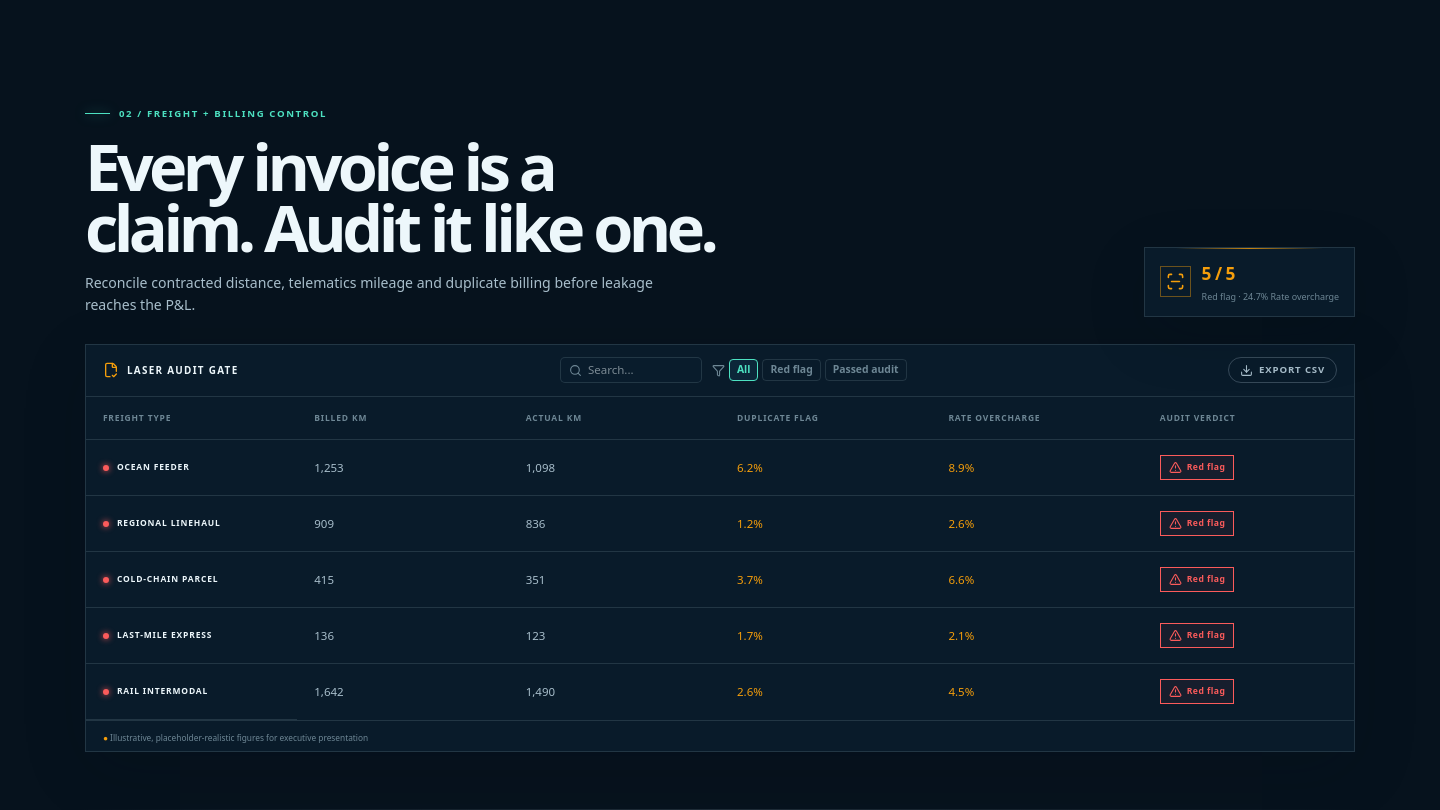
it: AuditSection › filters by text and verdict and exposes a localized empty state
Step 1. Type "not-a-freight-type" into the field labelled "Search..." → (640, 370), box x1=588 y1=362 x2=693 y2=379
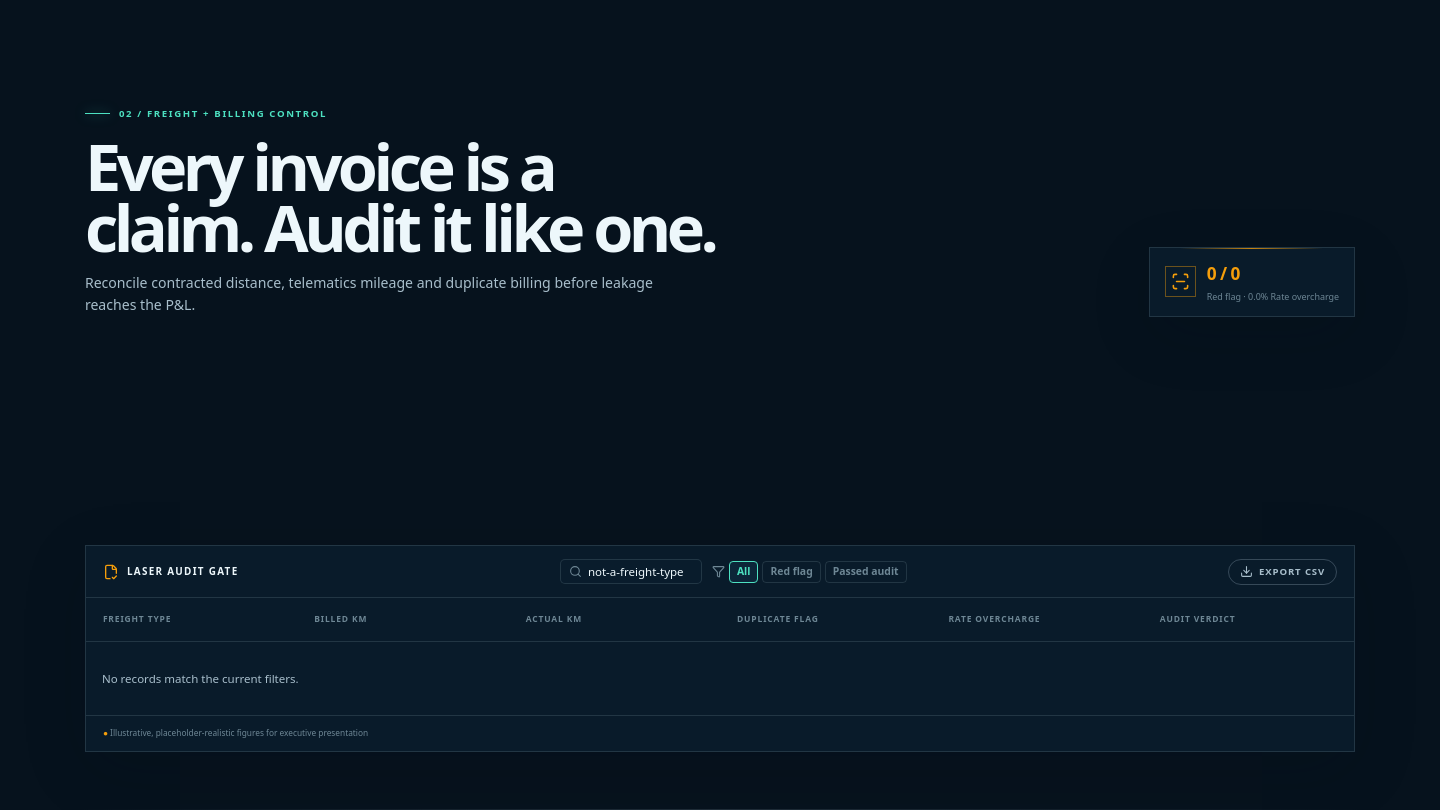
Expected: the text "No records match the current filters." is shown, x1=86 y1=642 x2=1354 y2=715
Expected: the number of rows is 2, x1=86 y1=598 x2=1354 y2=642; x1=86 y1=642 x2=1354 y2=715
Step 2. Clear the field named "Search" → (640, 572), box x1=588 y1=563 x2=693 y2=580
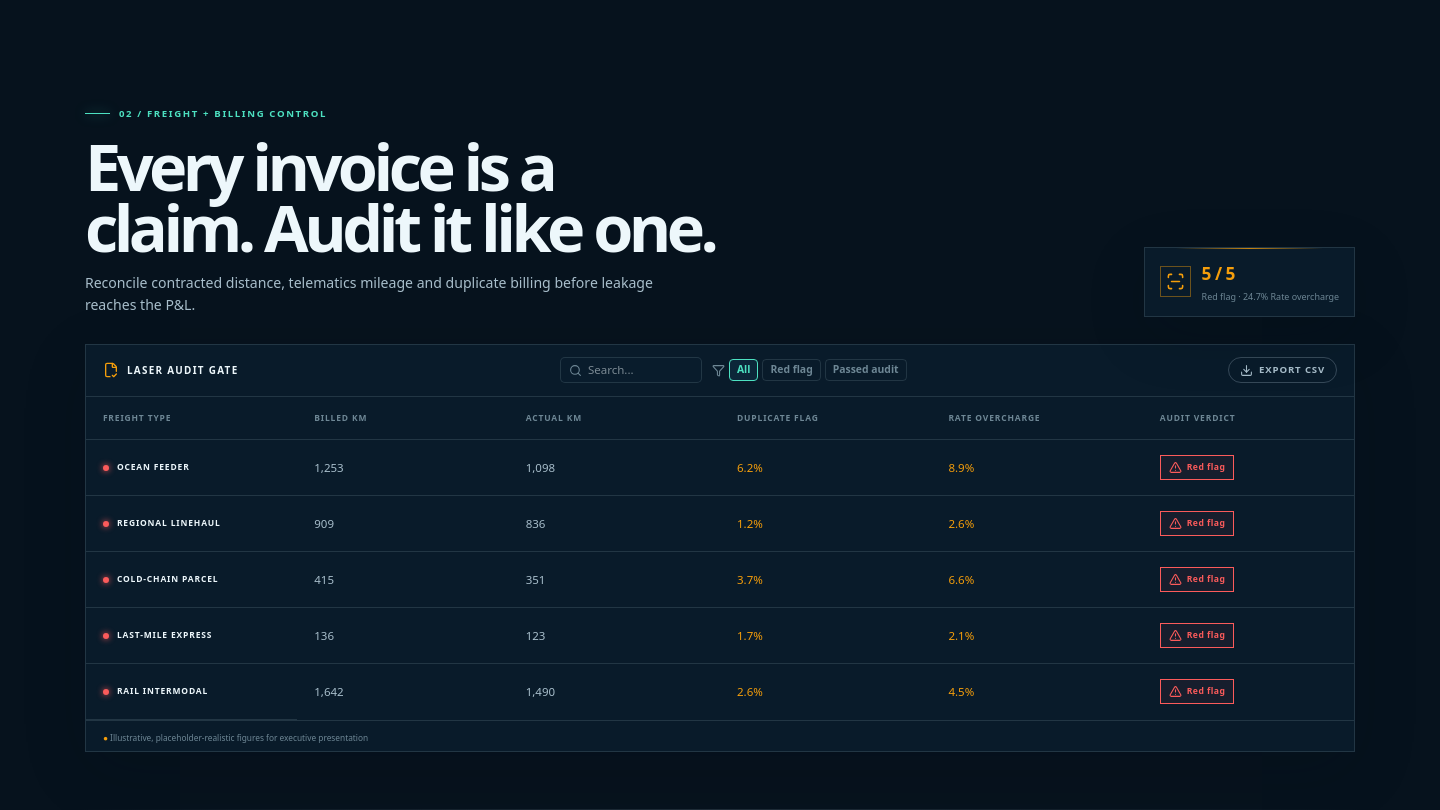
Step 3. Click the button "Passed audit" → (866, 370), box x1=825 y1=359 x2=907 y2=381
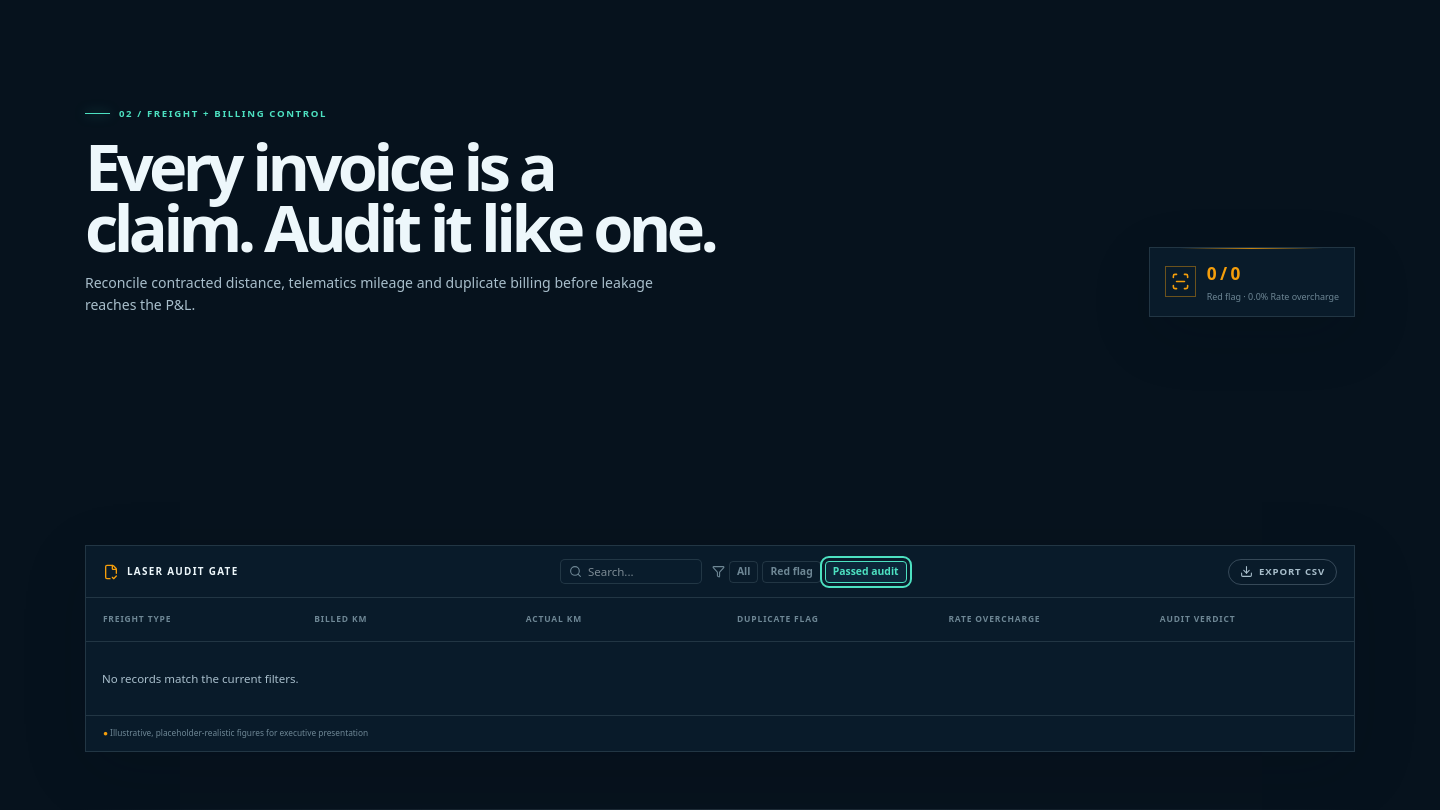
Expected: the text "No records match the current filters." is shown, x1=86 y1=642 x2=1354 y2=715
Step 4. Click the button "All" → (744, 572), box x1=729 y1=561 x2=758 y2=583
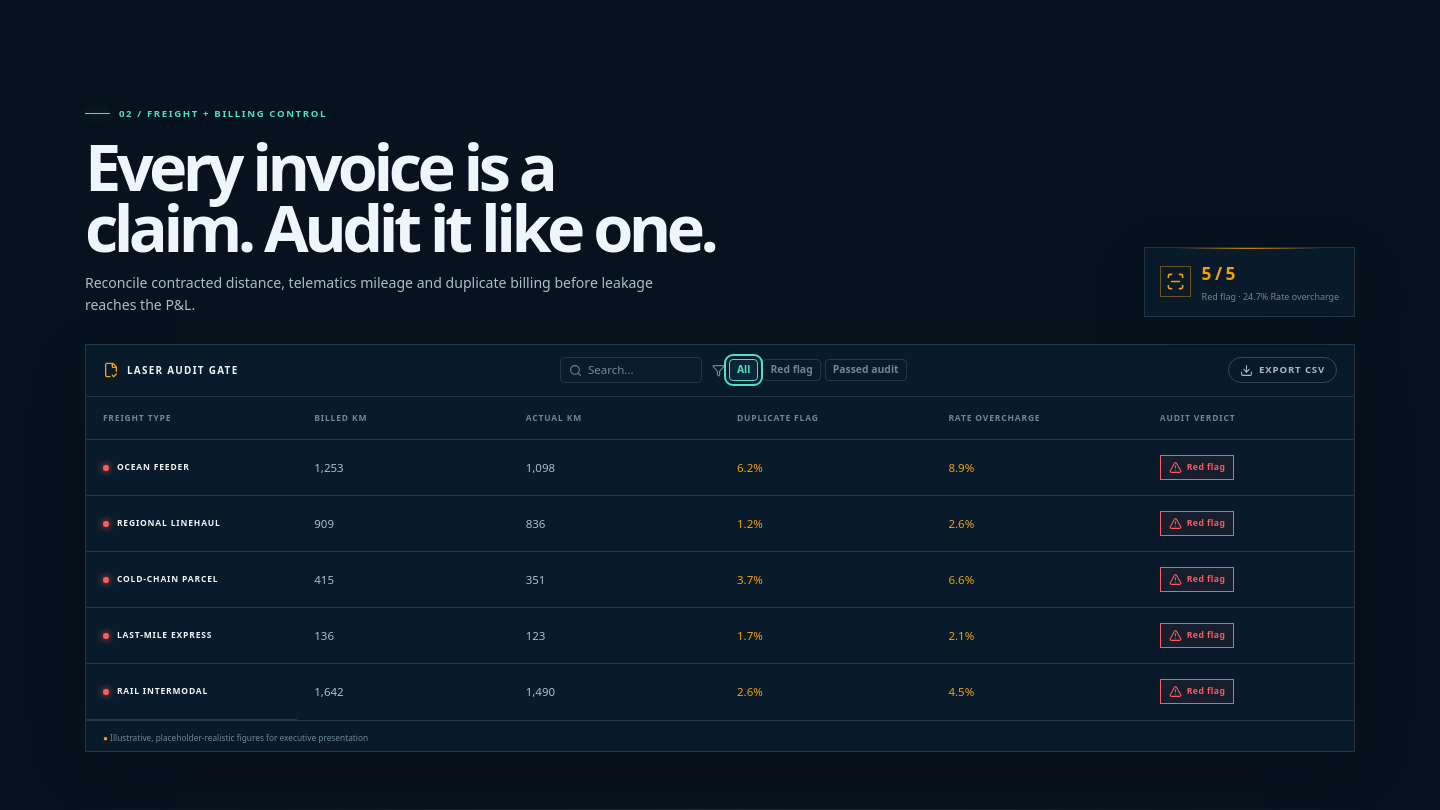
Expected: the text "No records match the current filters." is gone
